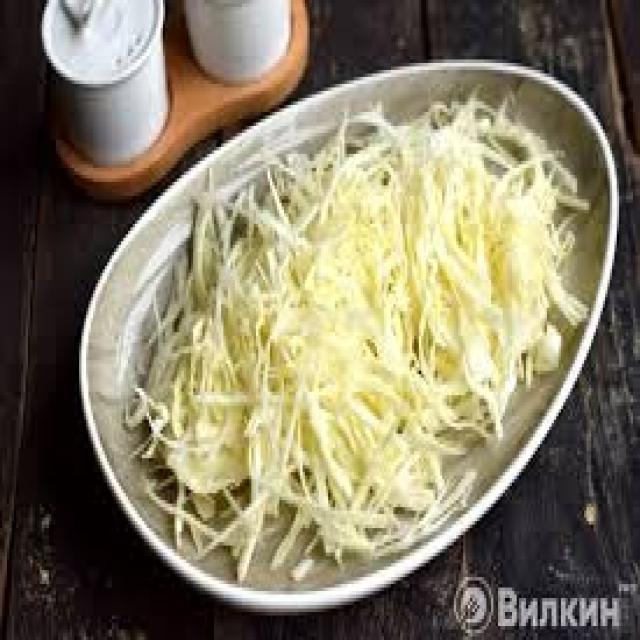cabbage: (92, 83, 608, 582)
